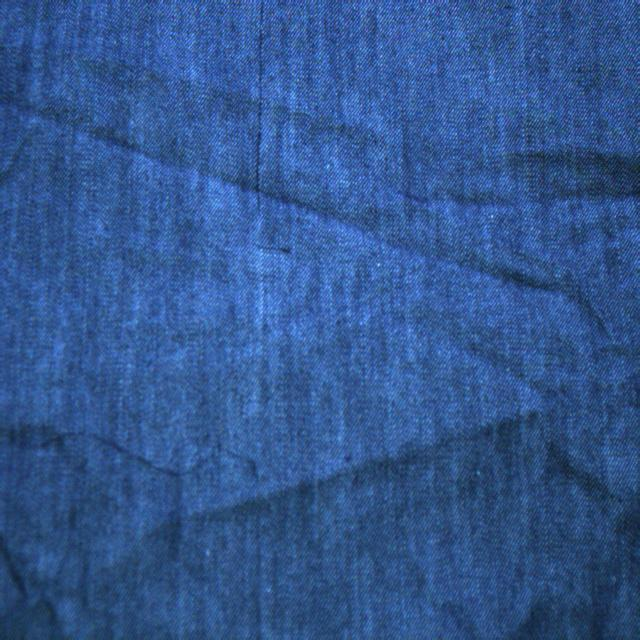pulled_or_thick_thread: (248, 0, 276, 214)
